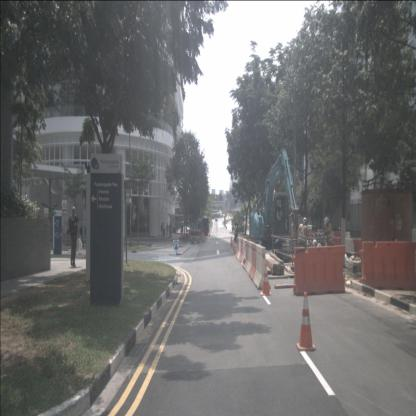barrier: (359, 241, 416, 291), (291, 246, 346, 295), (253, 245, 271, 289), (249, 243, 260, 282), (242, 240, 252, 271), (240, 239, 250, 267), (330, 238, 345, 254), (238, 239, 247, 263), (343, 238, 354, 254), (353, 238, 363, 255), (332, 231, 342, 242), (237, 239, 242, 260), (235, 237, 240, 258), (340, 232, 350, 242)
cone: (296, 292, 316, 351), (260, 263, 272, 296), (78, 240, 83, 256), (234, 242, 237, 255), (230, 236, 233, 248), (232, 240, 235, 251)
